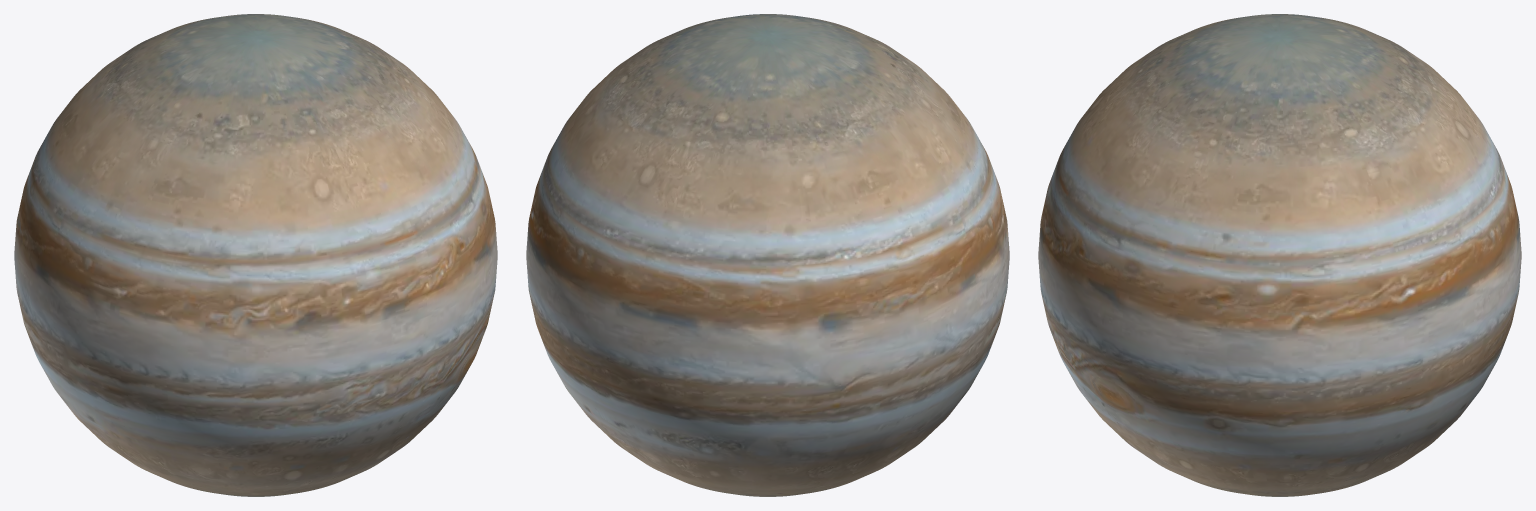
File: jupiter-transformed.glb
3 views of the same model, side by side, from view 1: azimuth 30°, elevation 25°; view 2: azimuth 150°, elevation 25°; view 3: azimuth 270°, elevation 25° (orthographic).
Visible parts, largest first — view 1: Sphere; view 2: Sphere; view 3: Sphere.
Boxes of the visible parts, x1=… form: Sphere: x1=14, y1=14, x2=497, y2=496; Sphere: x1=526, y1=14, x2=1009, y2=496; Sphere: x1=1038, y1=14, x2=1521, y2=496.
Bounding box in the file's own units: 200 × 200 × 200.
Materials: 1 (1 with a texture image).
